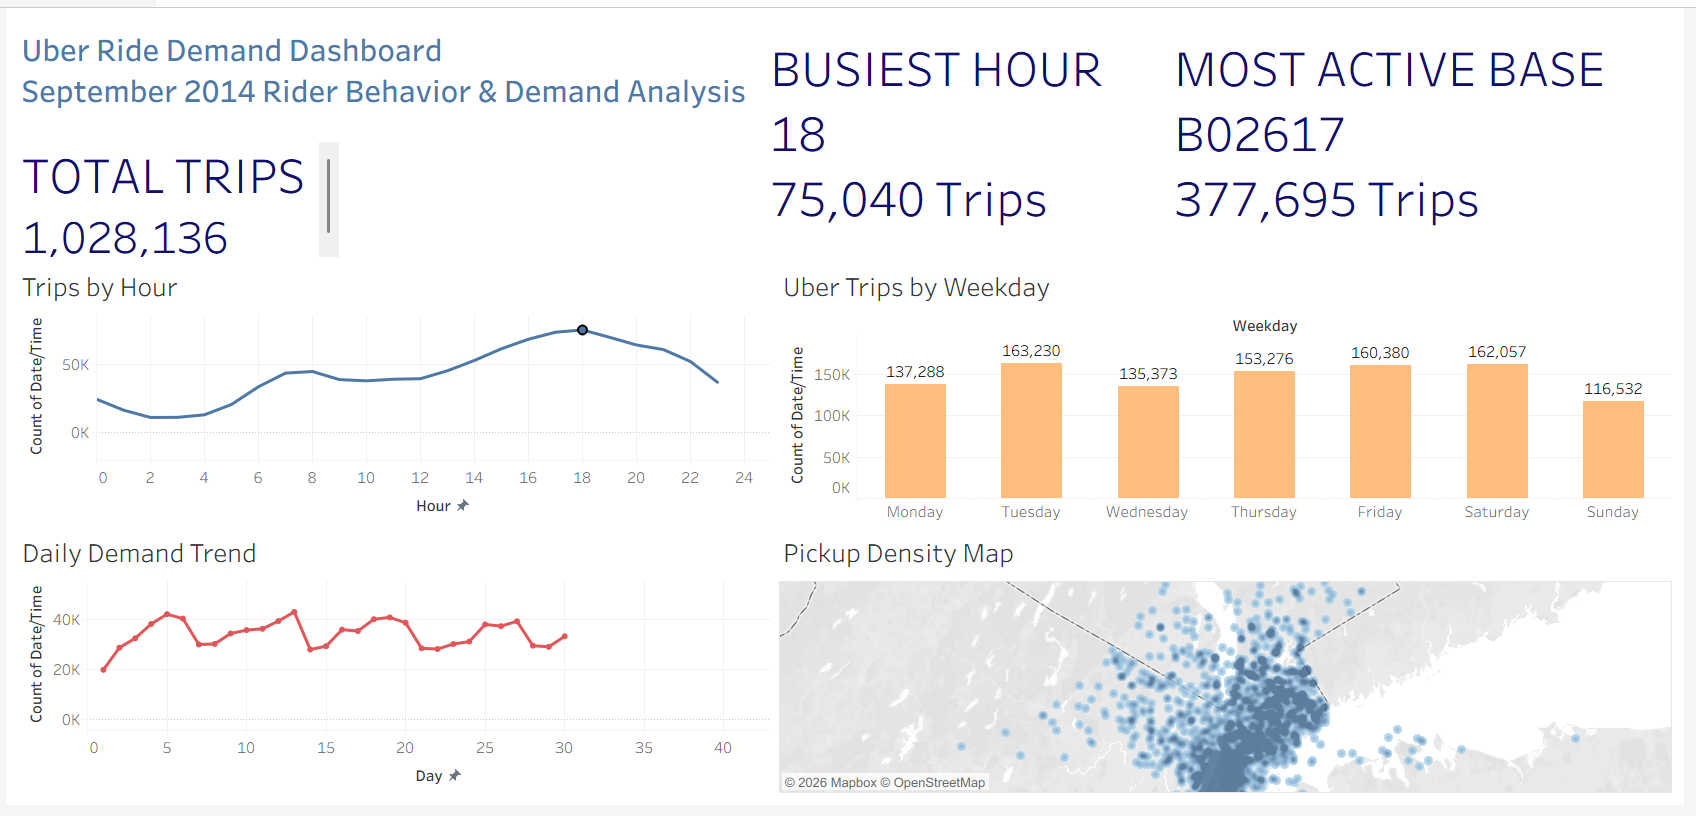

This screenshot's page, from the dashboard's own definition file:
{"tool":"tableau","page":{"name":"Dashboard 1","canvas":[1000,1000],"units":"permille","ordinal":0},"visuals":[{"type":"text","box":[4.7,9.4,445.8,134]},{"type":"worksheet","title":"Busiest Hour","mark":"Text","box":[450.5,9.4,240.8,307.9]},{"type":"worksheet","title":"Most Active Base","mark":"Text","box":[691.3,9.4,304,307.9]},{"type":"worksheet","title":"Total Trips","mark":"Automatic","box":[4.7,143.4,445.8,173.9]},{"type":"worksheet","title":"Trips by Hour","mark":"Automatic","rows":["Date/Time"],"cols":["hour"],"box":[4.7,317.3,453.4,333.7]},{"type":"worksheet","title":"Trips by Weekday","mark":"Bar","rows":["Date/Time"],"cols":["weekday"],"box":[458.1,317.3,537.3,333.7]},{"type":"worksheet","title":"Daily Demand Trend","mark":"Line","rows":["Date/Time"],"cols":["day"],"box":[4.7,651,453.4,339.6]},{"type":"worksheet","title":"Pickup Density Map","mark":"Heatmap","rows":["Lat"],"cols":["Lon"],"box":[458.1,651,537.2,339.6]}]}

Visuals, with their boxes on the dashboard's canvas, which has no fixed pixel size, in thousandths of its width and height (x1, y1, x2, y2). These are canvas units, not pixel positions in the 1696x816 screenshot, which may show the page scaled, cropped or inside an application window:
text: (5,9,450,143)
"Busiest Hour" worksheet (Text marks): (450,9,691,317)
"Most Active Base" worksheet (Text marks): (691,9,995,317)
"Total Trips" worksheet: (5,143,450,317)
"Trips by Hour" worksheet: (5,317,458,651)
"Trips by Weekday" worksheet (Bar marks): (458,317,995,651)
"Daily Demand Trend" worksheet (Line marks): (5,651,458,991)
"Pickup Density Map" worksheet (Heatmap marks): (458,651,995,991)
